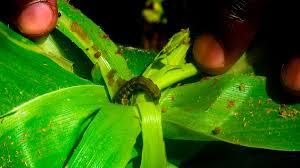fallarmy_worm: (112, 75, 164, 106)
